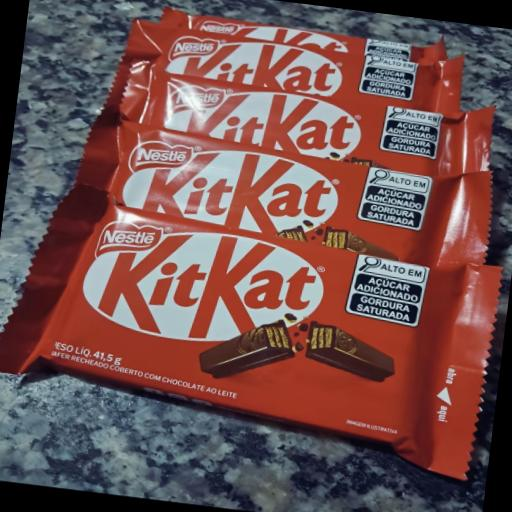kitkat: (0, 169, 510, 512), (57, 0, 501, 129)
